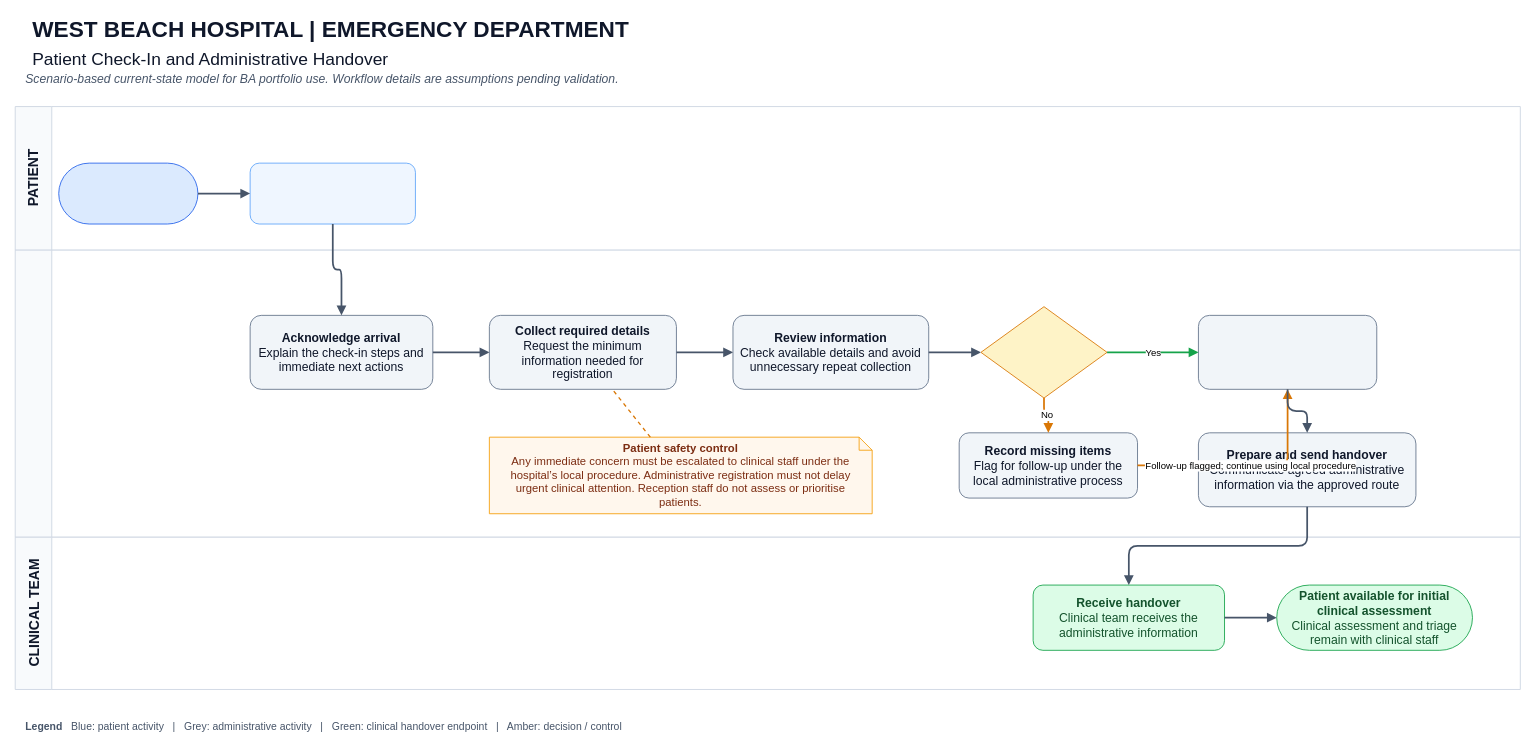
This 1536x756 diagram has some shape labels left out. Here are the shapes that lost their labels. From the top down, the box of each, then its label:
(58, 162, 198, 224): Patient arrives Emergency Department arrival
(249, 162, 415, 224): Approaches reception Requests check-in / provides initial details
(980, 306, 1107, 398): Required details available?
(1198, 315, 1377, 389): Record process milestone Update the approved record / status where applicable
(14, 249, 1520, 537): RECEPTION / ADMINISTRATIVE TEAM
